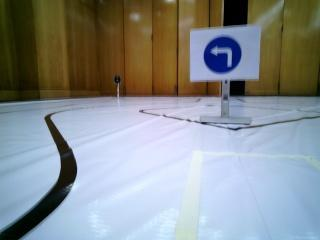left: (195, 29, 250, 77)
